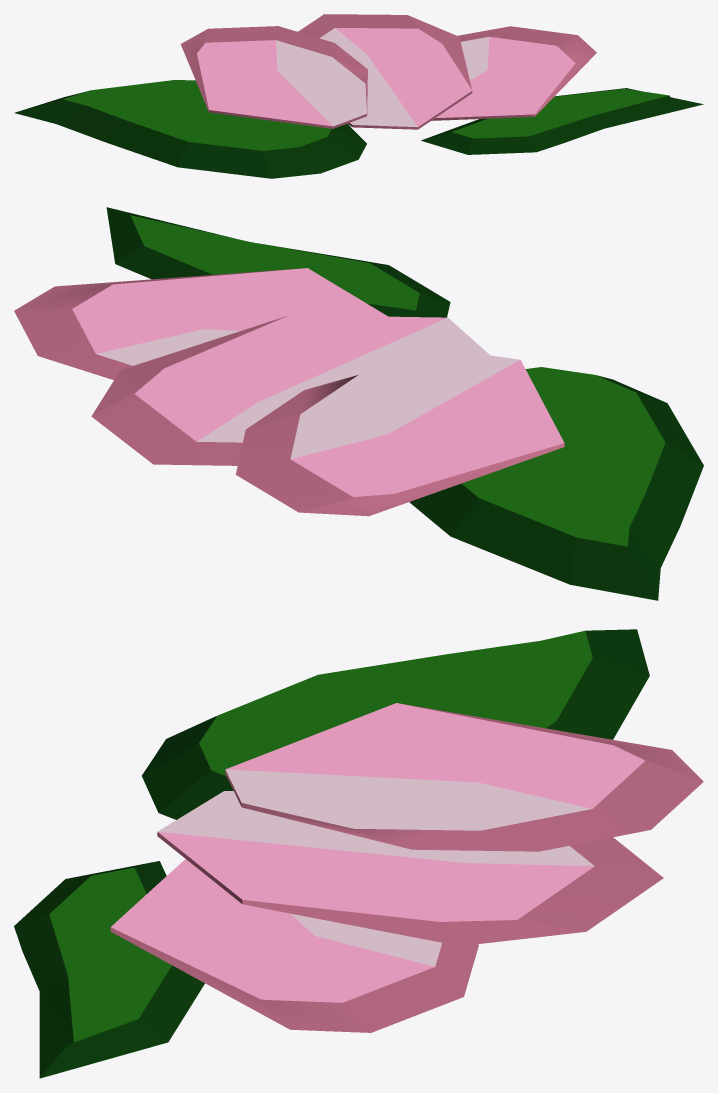
Rendered from Taiwan - Hakka Tung2.FBX.
3 views of the same model, one above another, from view 1: azimuth 30°, elevation 25°; view 2: azimuth 150°, elevation 25°; view 3: azimuth 270°, elevation 25° (orthographic). The views are drawn at different scales.
Parts seen in each view (by area): view 1: Line013, Box008, Box006, Box007, Line012; view 2: Line013, Box008, Box006, Box007, Line012; view 3: Box008, Box006, Line013, Box007, Line012.
Boxes of the visible parts, box(x1,y1,x2,y2) form: Line013: box(14, 80, 366, 178); Box008: box(180, 26, 367, 128); Box006: box(298, 14, 472, 129); Box007: box(431, 26, 596, 120); Line012: box(421, 88, 703, 154); Line013: box(409, 367, 703, 600); Box008: box(236, 350, 564, 516); Box006: box(91, 315, 489, 465); Box007: box(14, 268, 387, 379); Line012: box(106, 207, 450, 317); Box008: box(225, 703, 703, 851); Box006: box(157, 791, 663, 946); Line013: box(142, 629, 649, 819); Box007: box(110, 859, 478, 1032); Line012: box(14, 861, 204, 1078).
Bounding box in the file's own units: 3332 × 2134 × 129.
